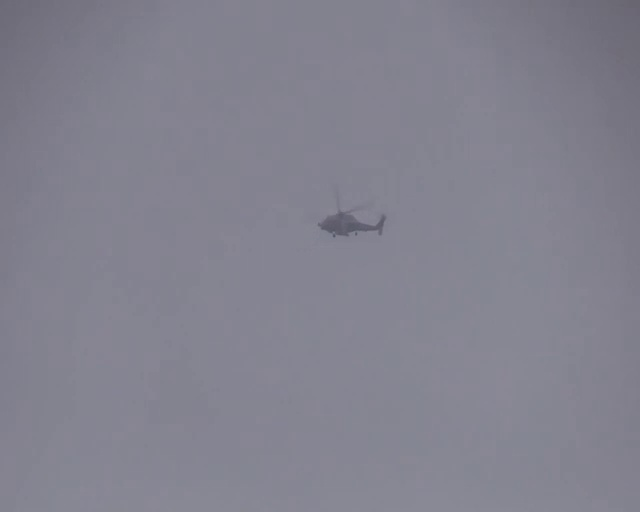HELICOPTER: (317, 184, 386, 238)
